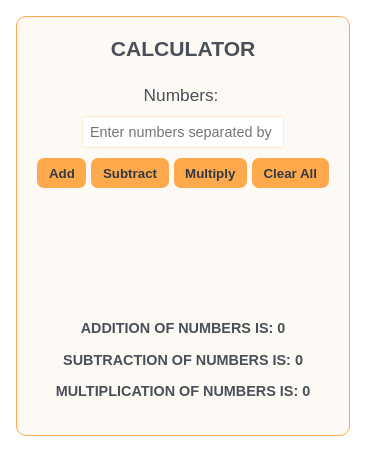
Scenario: Calculator App › multiplication functionality works correctly
Type "5,3" into the field labelled "Numbers:". click: (183,132)
box: [82,116,284,148]
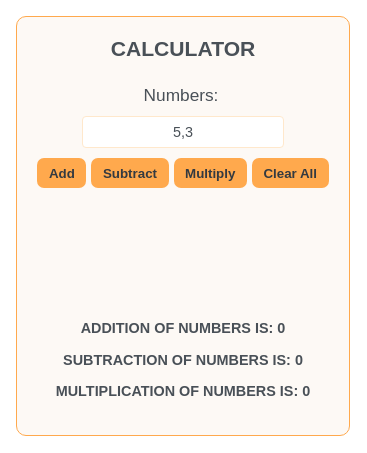
Click the button "Multiply". click: (210,173)
box: [174,158,247,188]
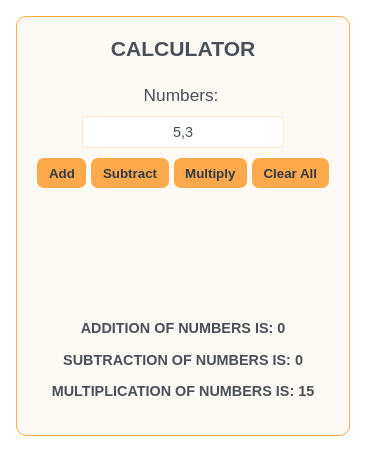
Result: the heading "Multiplication of numbers is: 15" is shown at [38,383,329,399]
